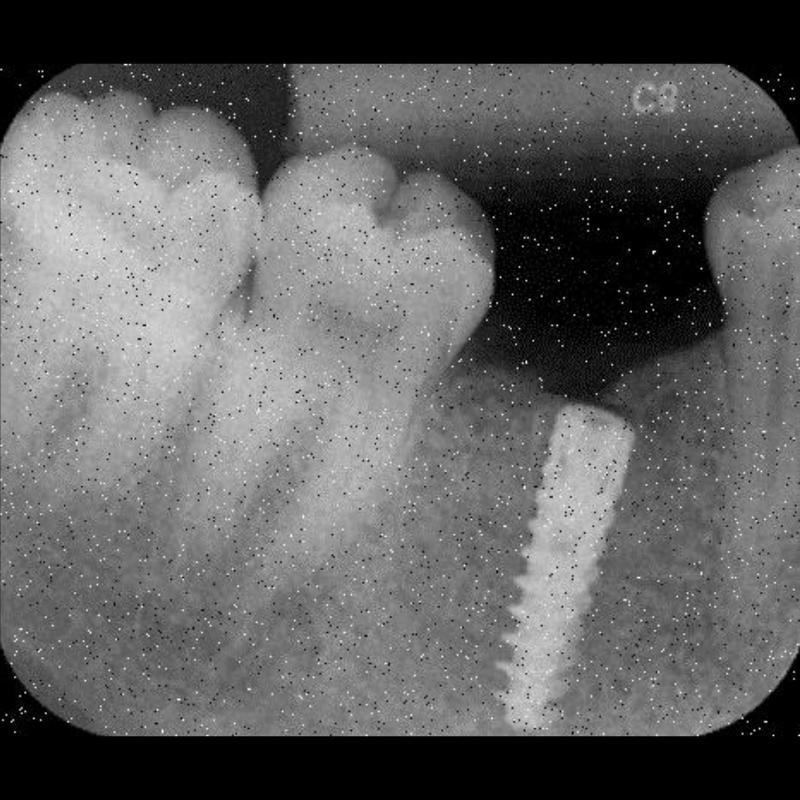ADIN: (498, 396, 636, 736)
